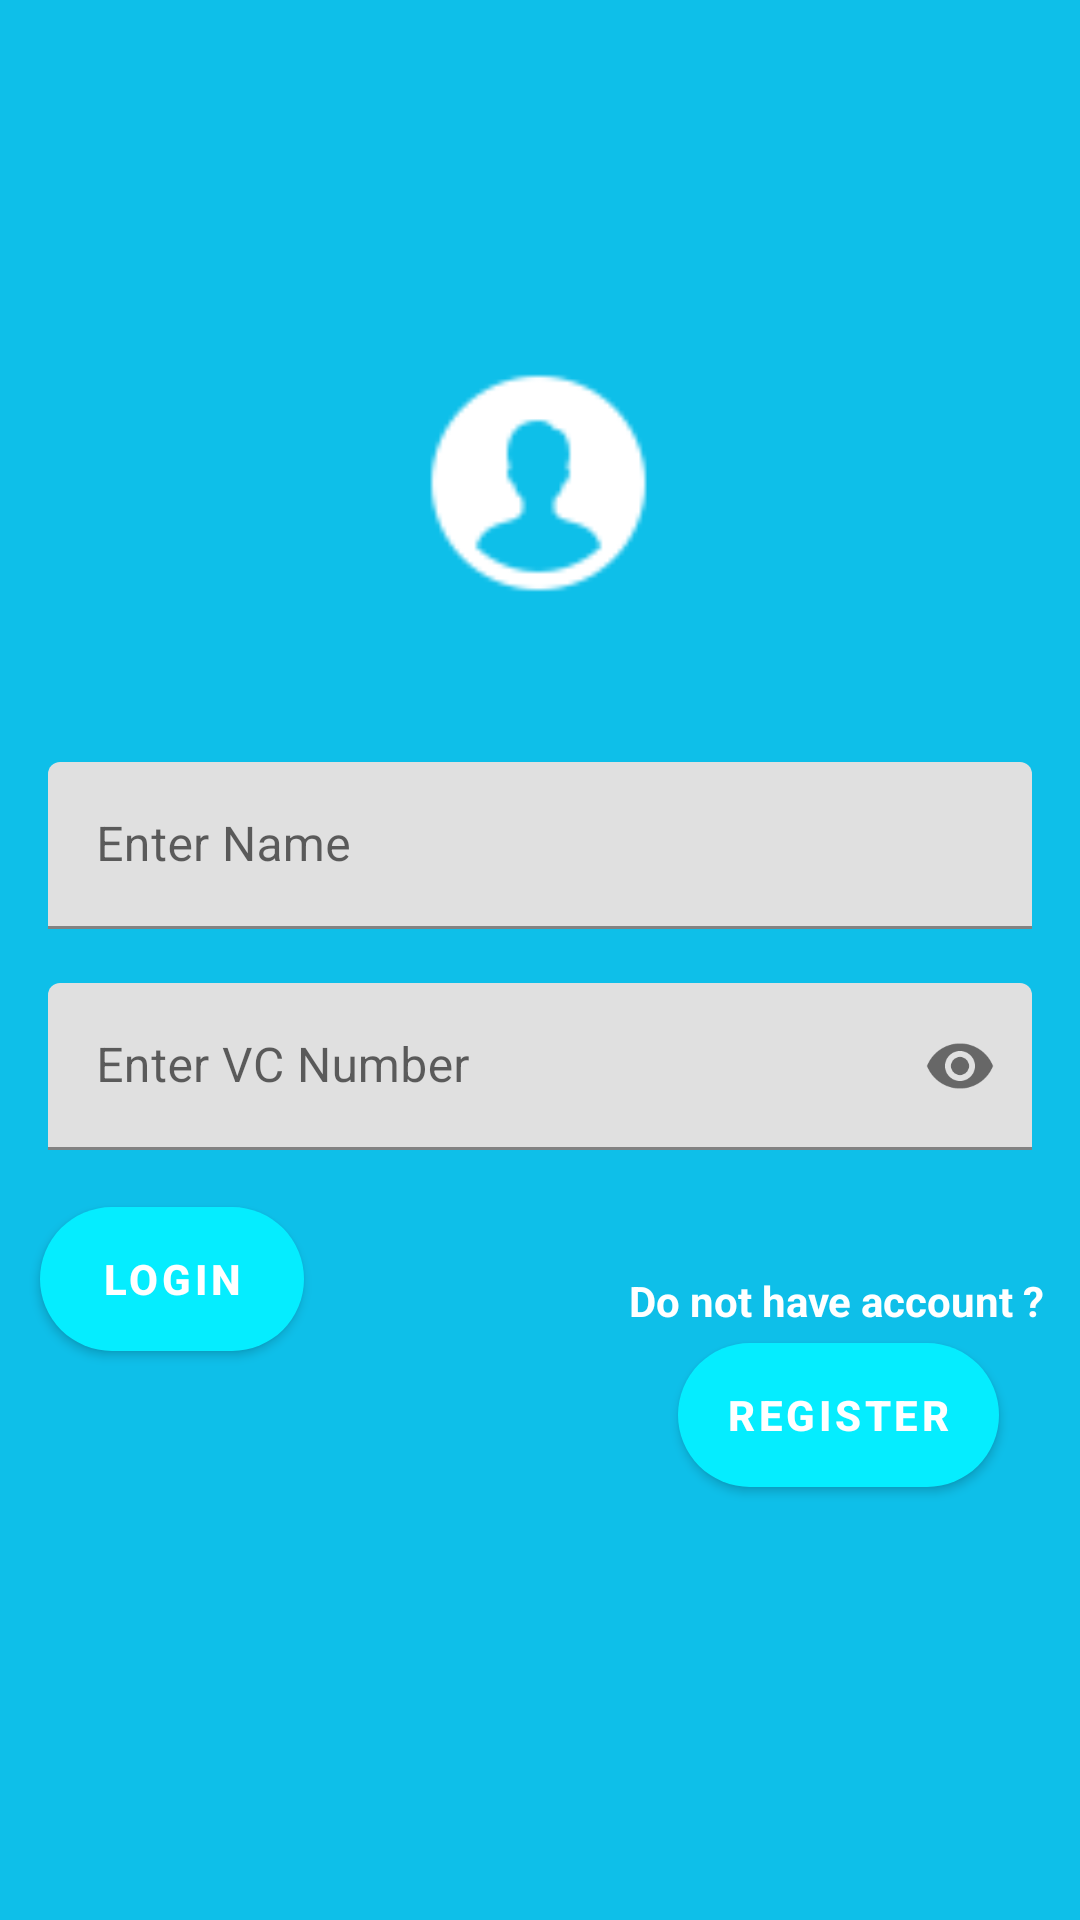

Named icons in this screenshot (1080 × 1920) and their bounding boxes, (x1, y1, x2, y2):
profile: (430, 374, 647, 592)
